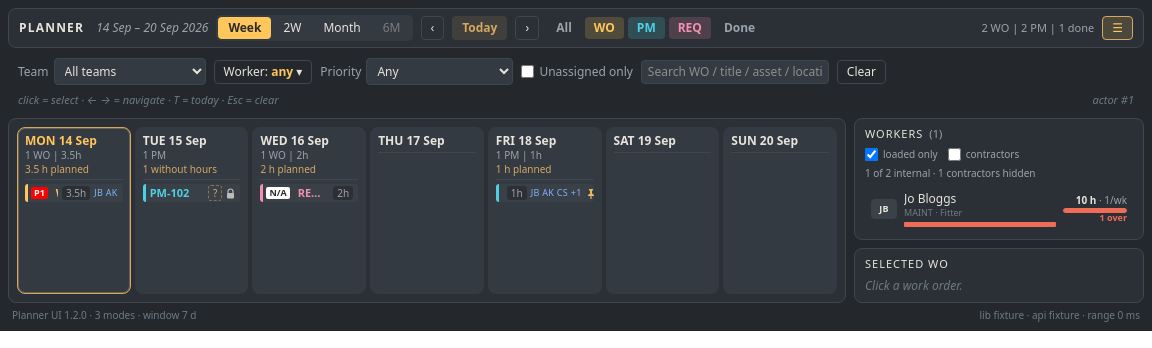
Test: PlannerView - the wire, the keys, the dialog › the filters row and the rail click narrow the grid (S1g, end to end on the fixture)
Expected: the number of elements with class "chip" is 4, [25,184,123,202]; [143,184,240,202]; [260,184,358,202]; [496,184,594,202]
Click the button "Worker: any ▾": (263, 72) [214,60,312,84]
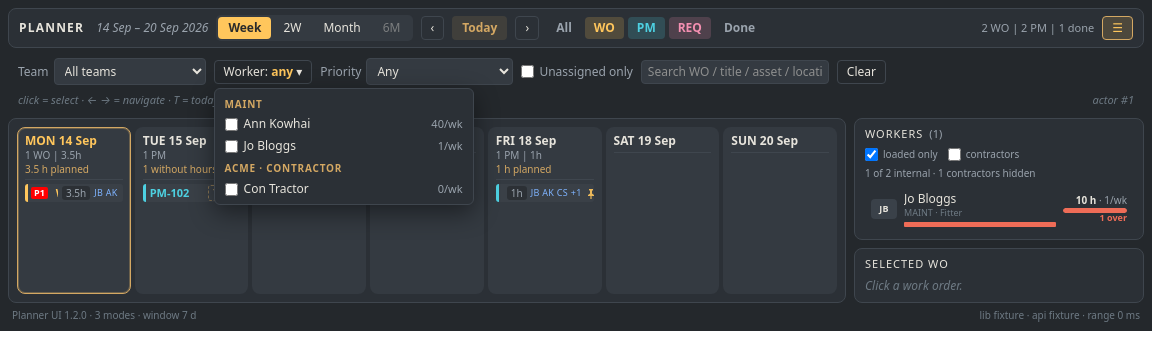
Click the checkbox labelled "Ann Kowhai 40/wk": (231, 124) [225,118,238,131]
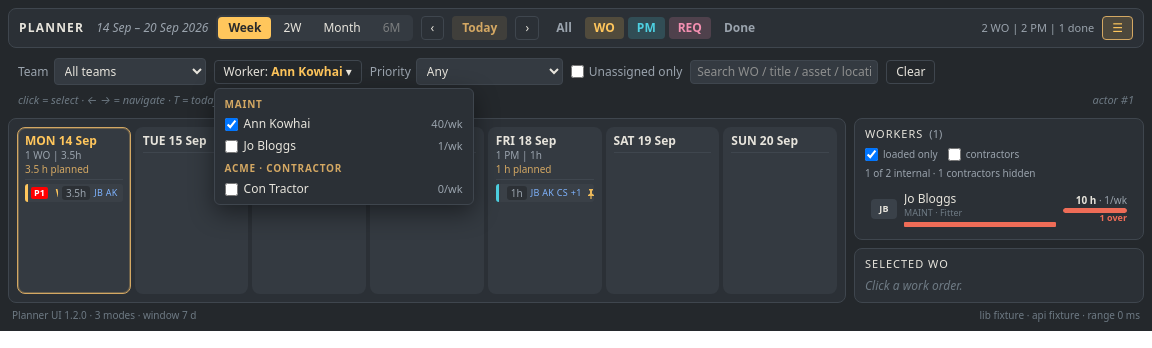
Expected: the number of elements with class "chip" is 2, [25,184,123,202]; [496,184,594,202]
Expected: the text with class "who" reads "Ann Kowhai", [271,63,343,80]
Click the button "Clear": (911, 72) [886,60,935,84]
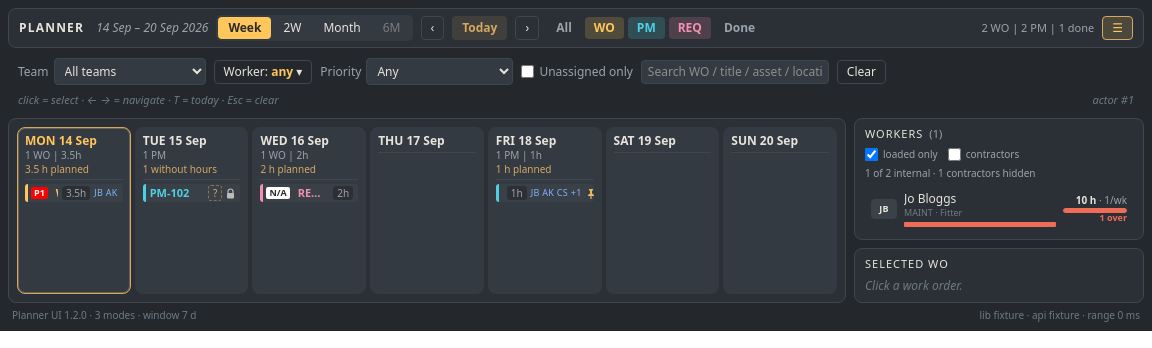
Expected: the number of elements with class "chip" is 4, [25,184,123,202]; [143,184,240,202]; [260,184,358,202]; [496,184,594,202]
Click the element showing "JB Jo Bloggs MAINT · Fitter 10 h · 1/wk 1 over": (930, 198) [865,187,1133,231]
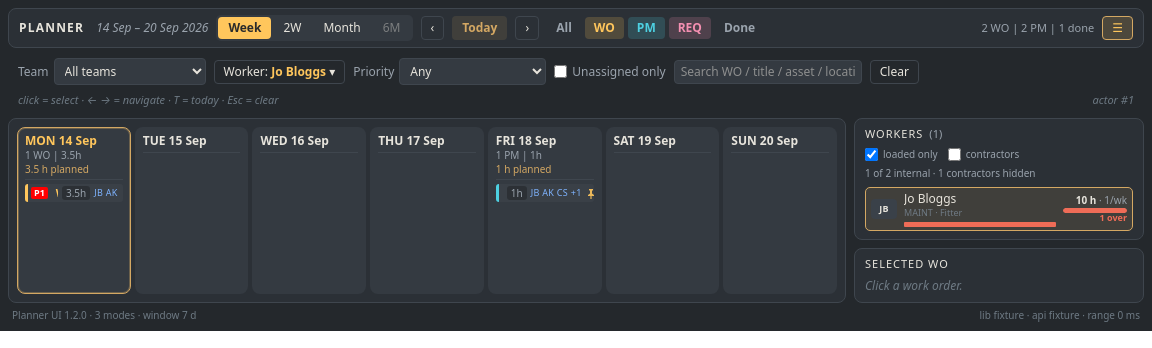
Expected: the number of elements with class "chip" is 2, [25,184,123,202]; [496,184,594,202]
